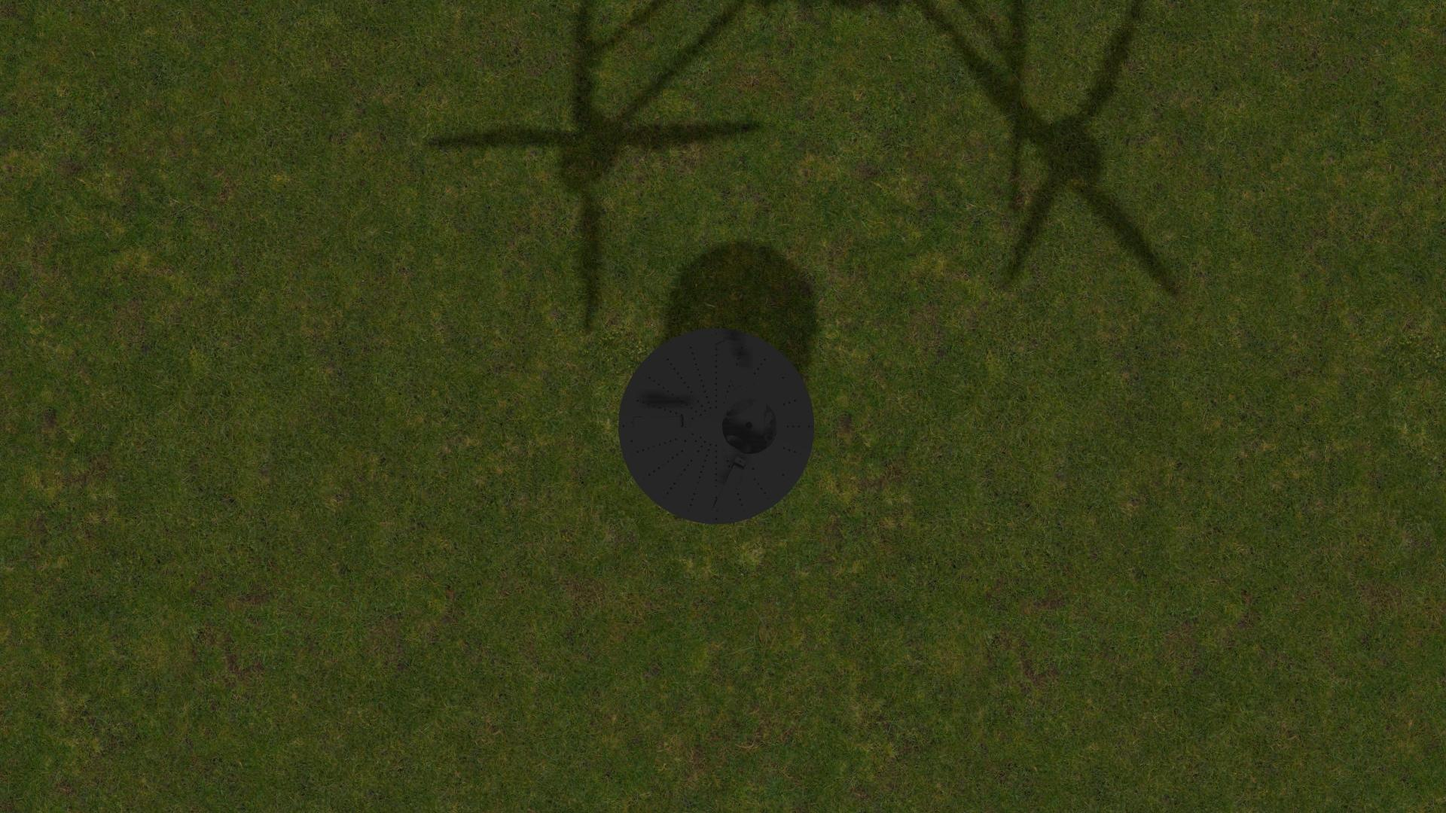alca: (710, 455, 747, 516), (713, 334, 748, 395), (628, 415, 690, 429)
armadilha: (618, 327, 814, 524)
